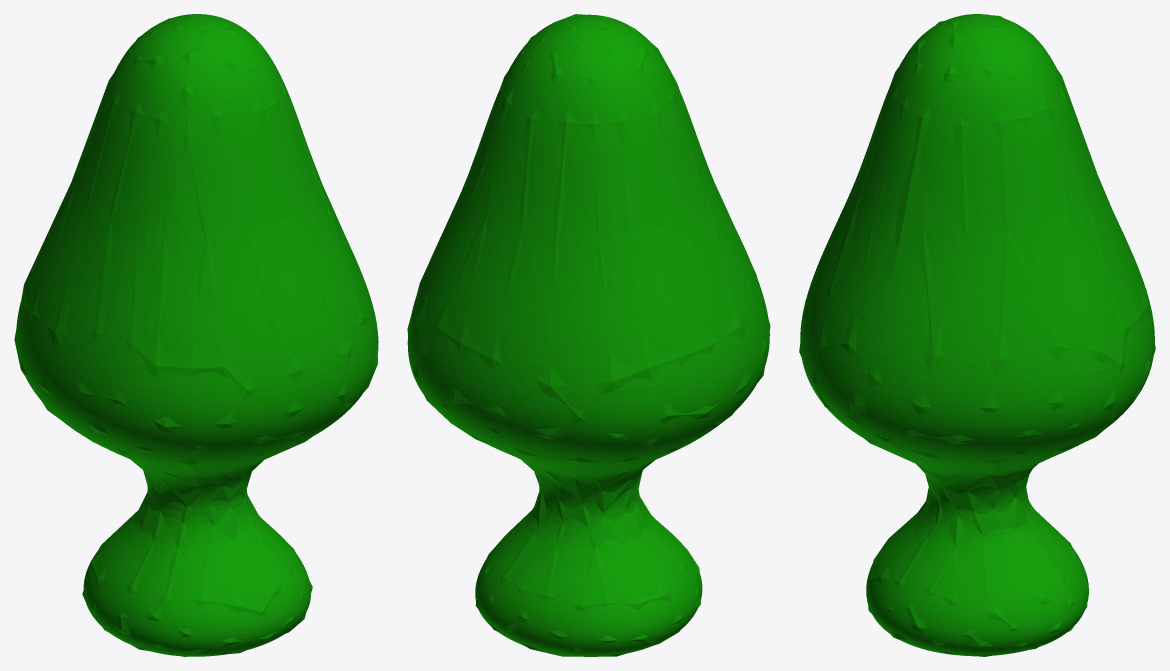
Rendered from LOD_Sapin.fbx.
3 renders of one model, left to right at view 1: azimuth 30°, elevation 25°; view 2: azimuth 150°, elevation 25°; view 3: azimuth 270°, elevation 25°, orthographic.
Visible parts, largest first — view 1: Sapin, Sapin.001, Sapin.002; view 2: Sapin, Sapin.001, Sapin.002; view 3: Sapin, Sapin.001, Sapin.002.
Boxes of the visible parts, x1,y1,x2,y2 form: Sapin: [16, 14, 378, 656]; Sapin.001: [16, 14, 378, 656]; Sapin.002: [14, 14, 377, 656]; Sapin: [408, 14, 769, 656]; Sapin.001: [407, 15, 769, 656]; Sapin.002: [407, 14, 770, 656]; Sapin: [800, 14, 1154, 656]; Sapin.001: [800, 14, 1154, 655]; Sapin.002: [799, 14, 1155, 656].
Size of the model in its own units: 254 by 479 by 254.
